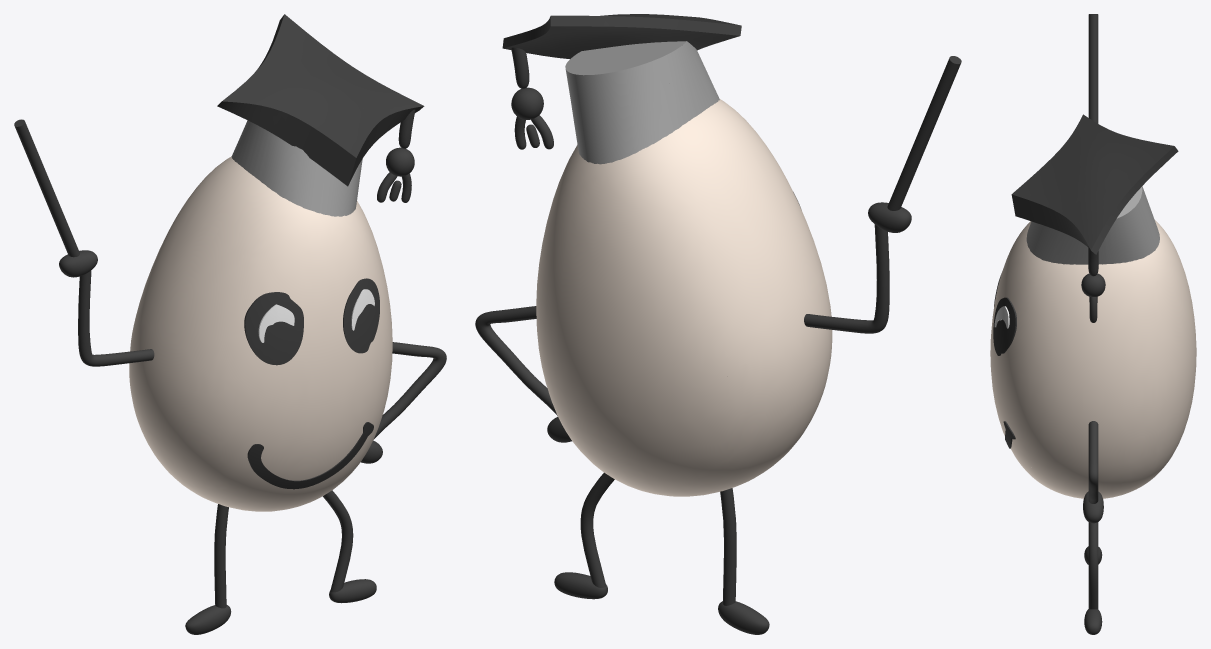
3 renders of one model, left to right at view 1: azimuth 30°, elevation 25°; view 2: azimuth 150°, elevation 25°; view 3: azimuth 270°, elevation 25°, orthographic. The views are drawn at different scales.
Visible parts, largest first — view 1: 030_gomakun; view 2: 030_gomakun; view 3: 030_gomakun.
Boxes of the visible parts, x1=… form: 030_gomakun: x1=14, y1=14, x2=446, y2=634; 030_gomakun: x1=475, y1=14, x2=961, y2=634; 030_gomakun: x1=990, y1=14, x2=1196, y2=634.
Bounding box in the file's own units: 0.1289 × 0.1603 × 0.0627.
